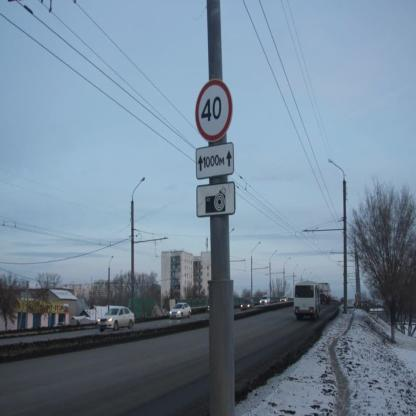road_sign: (194, 78, 233, 142), (197, 142, 236, 181), (196, 183, 236, 218)
